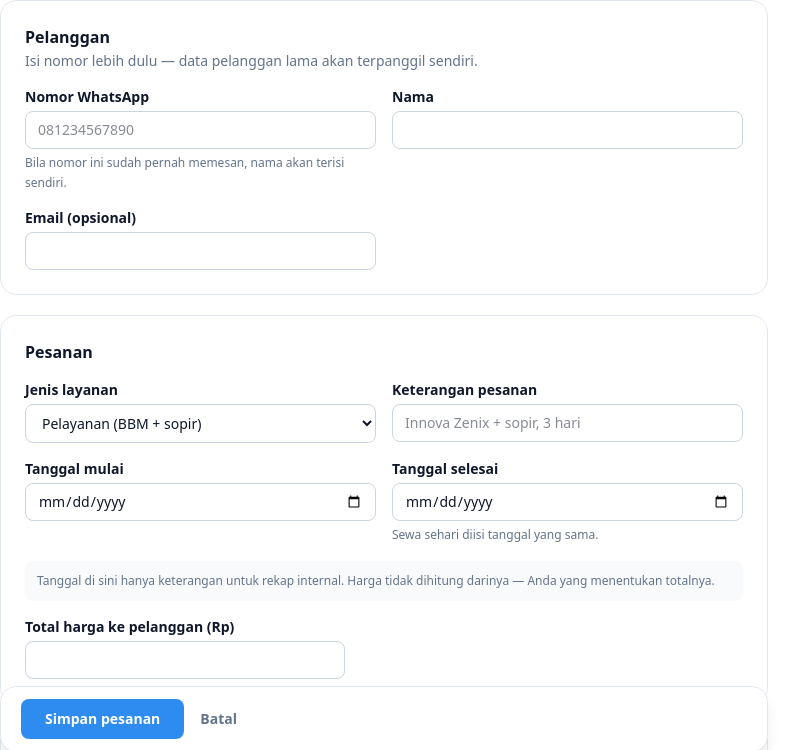
Test: ManualBookingForm — biaya operasional › mengurangi biaya operasional dari margin yang ditampilkan
Type "2000000" into the number field labelled "Total harga ke pelanggan (Rp)" at (185, 660), box [25,640,345,678]
(page scrolled)
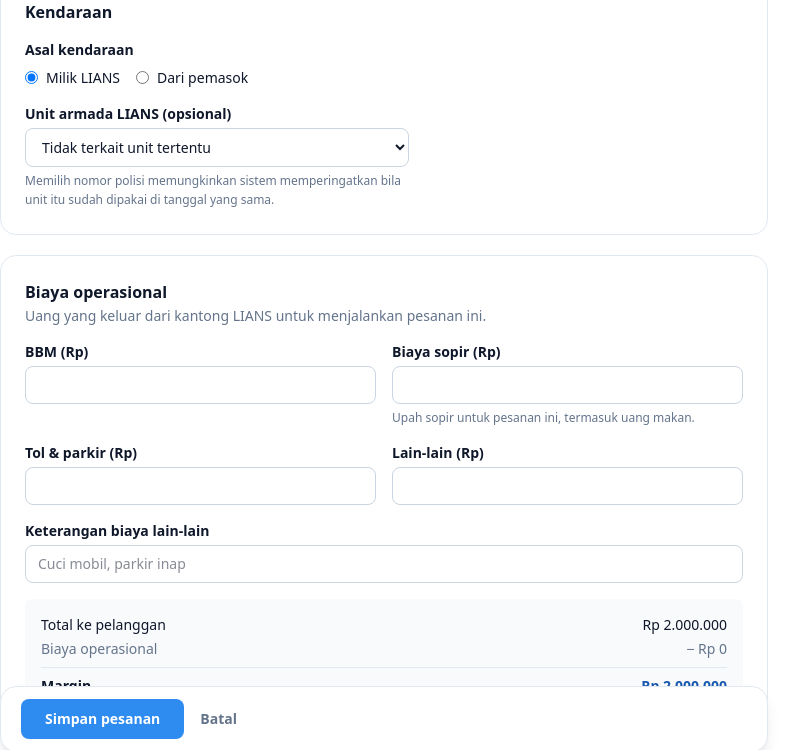
Type "400000" into the number field labelled "BBM (Rp)" at (200, 384), box [25,366,376,404]
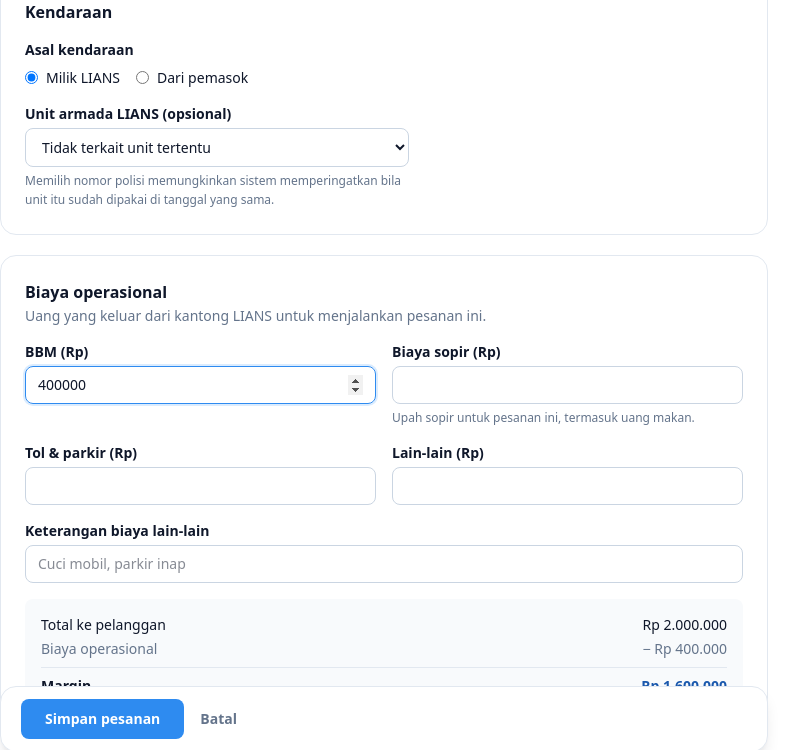
Type "250000" into the number field labelled "Biaya sopir" at (568, 384), box [392,366,743,404]
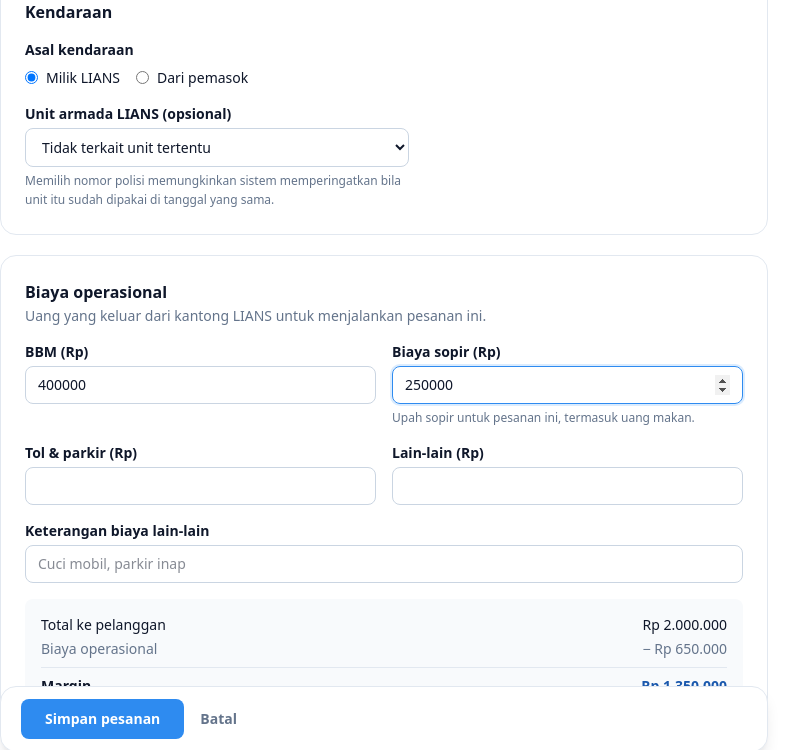
expect the text with test id "margin" reads "Rp 1.350.000": met, box [641,676,727,695]
